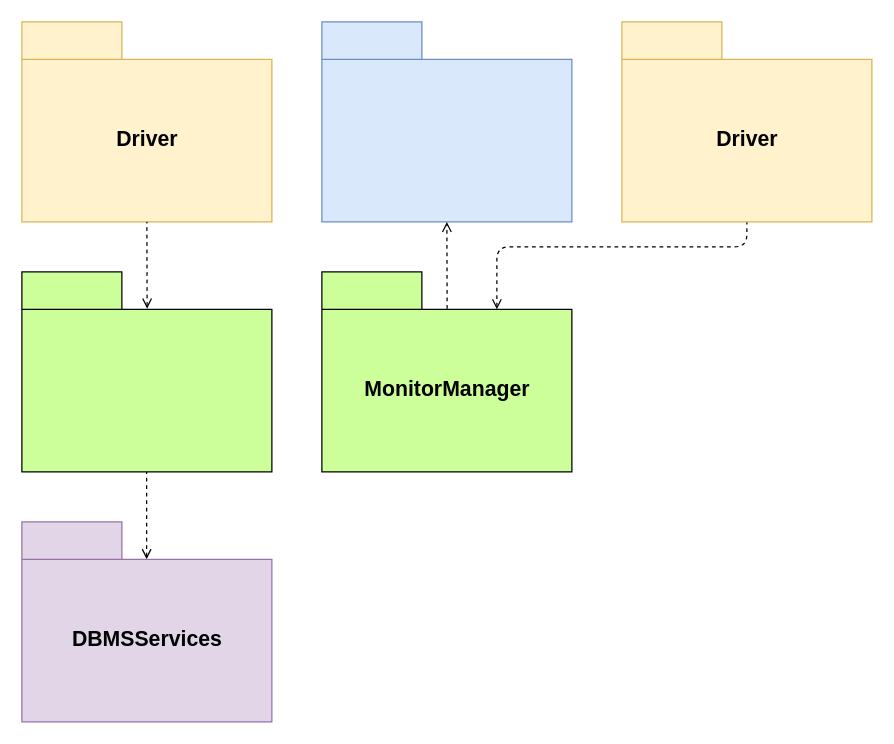
Image size: 894x744. Some labels were removed from this diagram. Each missing label, with the centre of its shape:
"StatisticsManager" belongs at (x=146, y=371).
"StoreMonitor" belongs at (x=446, y=121).
